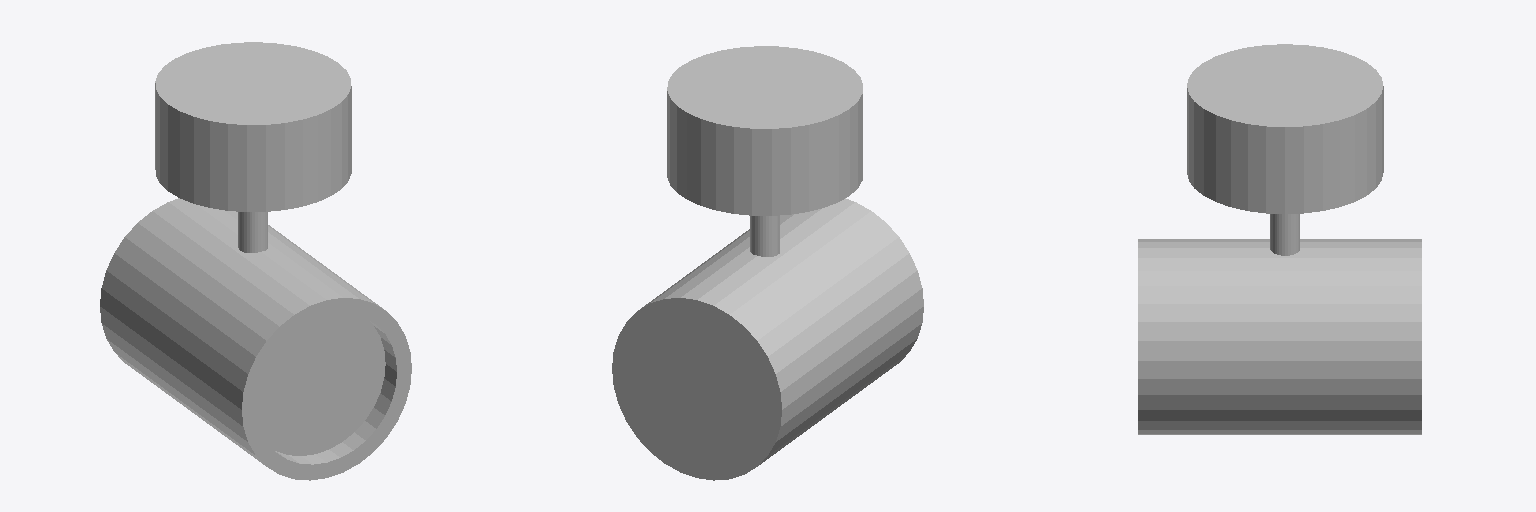
The model's file is spotlight.obj.
The picture shows the model from 3 angles: view 1: azimuth 30°, elevation 25°; view 2: azimuth 150°, elevation 25°; view 3: azimuth 270°, elevation 25°; orthographic projection.
Visible parts, largest first — view 1: spotlight; view 2: spotlight; view 3: spotlight.
Part boxes in pixels (bbox=[...]): spotlight: bbox=[100, 42, 411, 480]; spotlight: bbox=[612, 46, 923, 480]; spotlight: bbox=[1138, 44, 1421, 434].
Bounding box in the file's own units: 0.2344 × 0.4479 × 0.3383.